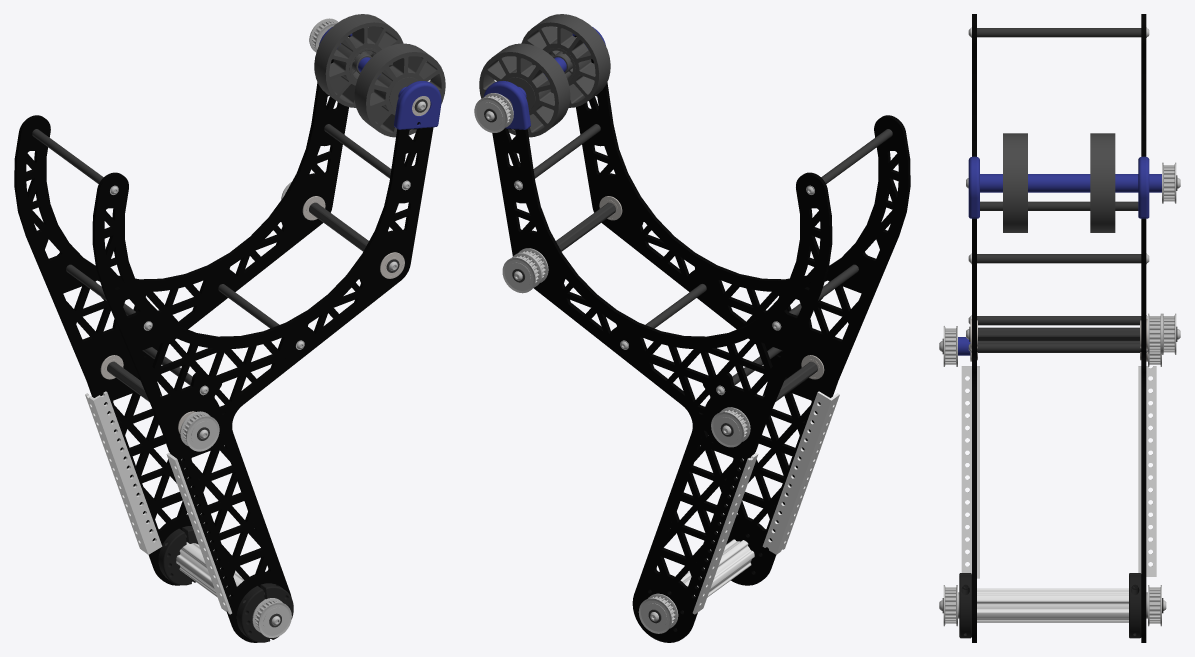
The picture shows the model from 3 angles, left to right: view 1: azimuth 30°, elevation 25°; view 2: azimuth 150°, elevation 25°; view 3: azimuth 270°, elevation 25°; orthographic projection. The views are drawn at different scales.
Visible parts, largest first — view 1: Part 1 (×2), 4" OD 1/2" Hex Bore Compliant Wheel 35A (am-3480) (×2), 0.74 x 0.74 Angle - 47in (REV-21-3207) (×2), Shaft (×6), 24t 9mm Wide 1/2" Hex Bore Double Flange 5mm HTD Aluminum Pu (×2), REV-21-2581 (×2), bearing retainer, MAXSpline Shaft 7.5"; view 2: Part 1 (×2), 4" OD 1/2" Hex Bore Compliant Wheel 35A (am-3480) (×2), 0.74 x 0.74 Angle - 47in (REV-21-3207) (×2), 24t 9mm Wide 1/2" Hex Bore Double Flange 5mm HTD Aluminum Pu (×4), Shaft (×5), MAXSpline Shaft 7.5", bearing retainer; view 3: Shaft (×8), Part 1 (×2), 0.74 x 0.74 Angle - 47in (REV-21-3207) (×2), MAXSpline Shaft 7.5", 4" OD 1/2" Hex Bore Compliant Wheel 35A (am-3480) (×2), 24t 9mm Wide 1/2" Hex Bore Double Flange 5mm HTD Aluminum Pu (×6), Spacer (Configurable) (×3), REV-21-2581 (×2), bearing retainer (×2).
Boxes of the visible parts, left/top/right/bottom form: Part 1 (×2): left=14, top=35, right=433, bottom=642; 4" OD 1/2" Hex Bore Compliant Wheel 35A (am-3480) (×2): left=314, top=14, right=445, bottom=137; 0.74 x 0.74 Angle - 47in (REV-21-3207) (×2): left=85, top=391, right=231, bottom=614; Shaft (×6): left=32, top=124, right=399, bottom=440; 24t 9mm Wide 1/2" Hex Bore Double Flange 5mm HTD Aluminum Pu (×2): left=180, top=411, right=291, bottom=637; REV-21-2581 (×2): left=158, top=528, right=270, bottom=642; bearing retainer: left=394, top=81, right=441, bottom=129; MAXSpline Shaft 7.5": left=176, top=542, right=265, bottom=599; Part 1 (×2): left=492, top=35, right=910, bottom=642; 4" OD 1/2" Hex Bore Compliant Wheel 35A (am-3480) (×2): left=479, top=14, right=610, bottom=137; 0.74 x 0.74 Angle - 47in (REV-21-3207) (×2): left=692, top=391, right=839, bottom=614; 24t 9mm Wide 1/2" Hex Bore Double Flange 5mm HTD Aluminum Pu (×4): left=474, top=93, right=750, bottom=633; Shaft (×5): left=512, top=124, right=892, bottom=436; MAXSpline Shaft 7.5": left=680, top=539, right=754, bottom=597; bearing retainer: left=483, top=81, right=530, bottom=129; Shaft (×8): left=939, top=28, right=1180, bottom=354; Part 1 (×2): left=972, top=14, right=1146, bottom=642; 0.74 x 0.74 Angle - 47in (REV-21-3207) (×2): left=961, top=366, right=1156, bottom=578; MAXSpline Shaft 7.5": left=977, top=588, right=1128, bottom=622; 4" OD 1/2" Hex Bore Compliant Wheel 35A (am-3480) (×2): left=1003, top=133, right=1115, bottom=232; 24t 9mm Wide 1/2" Hex Bore Double Flange 5mm HTD Aluminum Pu (×6): left=943, top=162, right=1176, bottom=626; Spacer (Configurable) (×3): left=980, top=174, right=1138, bottom=192; REV-21-2581 (×2): left=959, top=575, right=1141, bottom=638; bearing retainer (×2): left=968, top=156, right=1149, bottom=218.
Size of the model in its own units: 0.4654 by 0.6575 by 0.2461.
